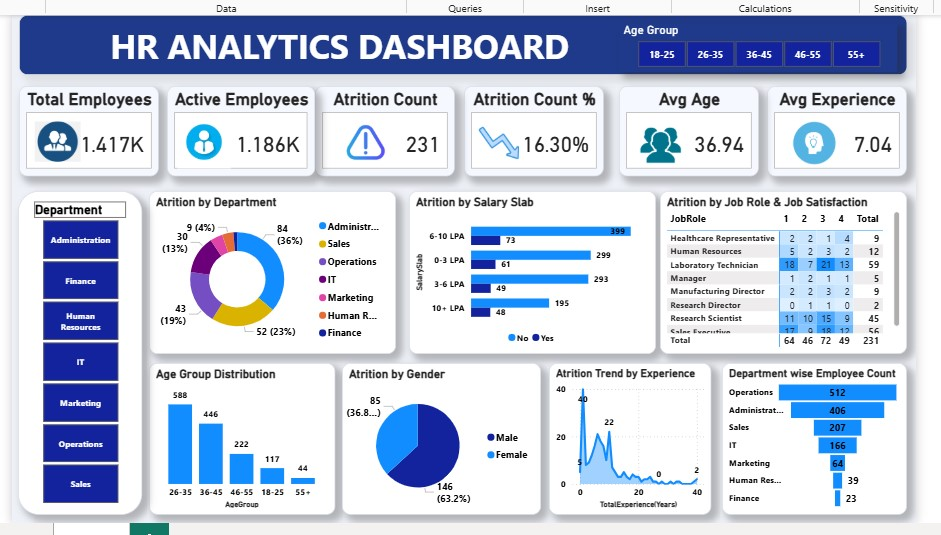

The page's visual inventory and layout, read from the dashboard file:
{"tool":"powerbi","page":{"name":"Page 1","canvas":[1280,720],"ordinal":0},"visuals":[{"type":"textbox","box":[10,0,1259,85],"z":0},{"type":"cardVisual","title":"Total Employees","fields":{"Data":["CountNonNull(HR_Analytics-4.EmpID)"]},"box":[10.1,100.8,198.2,127.7],"z":1000},{"type":"cardVisual","title":"Avg Experience","fields":{"Data":["Avg(HR_Analytics-4.YearsatCompany)"]},"box":[1070,100.8,198.2,127.7],"z":2000},{"type":"cardVisual","title":"Avg Age","fields":{"Data":["Avg(HR_Analytics-4.Age)"]},"box":[860.1,100.8,198.2,127.7],"z":3000},{"type":"cardVisual","title":"Atrition Count %","fields":{"Data":["HR_Analytics-4.Atrition Rate %"]},"box":[640,100.8,198.2,127.7],"z":4000},{"type":"cardVisual","title":"Atrition Count","fields":{"Data":["Sum(HR_Analytics-4.AttritionCount)"]},"box":[430,100.8,198.2,127.7],"z":5000},{"type":"cardVisual","title":"Active Employees","fields":{"Data":["CountNonNull(HR_Analytics-4.EmployeeCount)"]},"box":[220.1,100.8,210,127.7],"z":6000},{"type":"image","box":[21.3,146,87.9,66.6],"z":7000},{"type":"image","box":[219.7,137.5,104.9,85],"z":8000},{"type":"image","box":[457.8,146,86.5,69.4],"z":9000},{"type":"image","box":[640.6,146,99.2,70.9],"z":10000},{"type":"image","box":[875.9,146,86.5,76.5],"z":11000},{"type":"image","box":[1092.8,146,89.3,70.9],"z":12000},{"type":"donutChart","title":"Atrition by Department","fields":{"Category":["HR_Analytics-4.Department"],"Y":["Sum(HR_Analytics-4.AttritionCount)"]},"box":[194.2,249.4,350.1,231],"z":13000},{"type":"clusteredBarChart","title":"Atrition by Salary Slab","fields":{"Category":["HR_Analytics-4.SalarySlab"],"Y":["CountNonNull(HR_Analytics-4.EmpID)"],"Series":["HR_Analytics-4.Attrition"]},"box":[562.7,249.4,350.1,231],"z":14000},{"type":"pivotTable","title":"Atrition by Job Role & Job Satisfaction","fields":{"Rows":["HR_Analytics-4.JobRole"],"Values":["Sum(HR_Analytics-4.AttritionCount)"],"Columns":["HR_Analytics-4.JobSatisfaction"]},"box":[918.4,249.4,350.1,231],"z":15000},{"type":"columnChart","title":"Age Group Distribution","fields":{"Category":["HR_Analytics-4.AgeGroup"],"Y":["Sum(HR_Analytics-4.EmployeeCount)"]},"box":[194.2,493.2,263.6,215.4],"z":16000},{"type":"pieChart","title":"Atrition by Gender","fields":{"Category":["HR_Analytics-4.Gender"],"Y":["Sum(HR_Analytics-4.AttritionCount)"]},"box":[467.7,493.2,282,215.4],"z":17000},{"type":"areaChart","title":"Atrition Trend by Experience","fields":{"Category":["HR_Analytics-4.TotalExperience(Years)"],"Y":["Sum(HR_Analytics-4.AttritionCount)"]},"box":[761.1,493.2,229.6,215.4],"z":18000},{"type":"funnel","title":"Department wise Employee Count","fields":{"Category":["HR_Analytics-4.Department"],"Y":["CountNonNull(HR_Analytics-4.EmpID)"]},"box":[1006.3,493.2,262.2,215.4],"z":19000},{"type":"slicer","fields":{"Values":["HR_Analytics-4.Department"]},"box":[8.5,249.4,175.7,459.2],"z":20000},{"type":"slicer","title":"Age Group","fields":{"Values":["HR_Analytics-4.AgeGroup"]},"box":[861.7,11.3,392.6,69.4],"z":20001}]}

Visuals, with their boxes on the page's 1280x720 design canvas (x1, y1, x2, y2). These are canvas units, not pixel positions in the 941x535 screenshot, which may show the page scaled, cropped or inside an application window:
textbox: bbox=(10, 0, 1269, 85)
"Total Employees" cardVisual: bbox=(10, 101, 208, 228)
"Avg Experience" cardVisual: bbox=(1070, 101, 1268, 228)
"Avg Age" cardVisual: bbox=(860, 101, 1058, 228)
"Atrition Count %" cardVisual: bbox=(640, 101, 838, 228)
"Atrition Count" cardVisual: bbox=(430, 101, 628, 228)
"Active Employees" cardVisual: bbox=(220, 101, 430, 228)
image: bbox=(21, 146, 109, 213)
image: bbox=(220, 138, 325, 222)
image: bbox=(458, 146, 544, 215)
image: bbox=(641, 146, 740, 217)
image: bbox=(876, 146, 962, 222)
image: bbox=(1093, 146, 1182, 217)
"Atrition by Department" donutChart: bbox=(194, 249, 544, 480)
"Atrition by Salary Slab" clusteredBarChart: bbox=(563, 249, 913, 480)
"Atrition by Job Role & Job Satisfaction" pivotTable: bbox=(918, 249, 1268, 480)
"Age Group Distribution" columnChart: bbox=(194, 493, 458, 709)
"Atrition by Gender" pieChart: bbox=(468, 493, 750, 709)
"Atrition Trend by Experience" areaChart: bbox=(761, 493, 991, 709)
"Department wise Employee Count" funnel: bbox=(1006, 493, 1268, 709)
slicer - HR_Analytics-4.Department: bbox=(8, 249, 184, 709)
"Age Group" slicer: bbox=(862, 11, 1254, 81)
